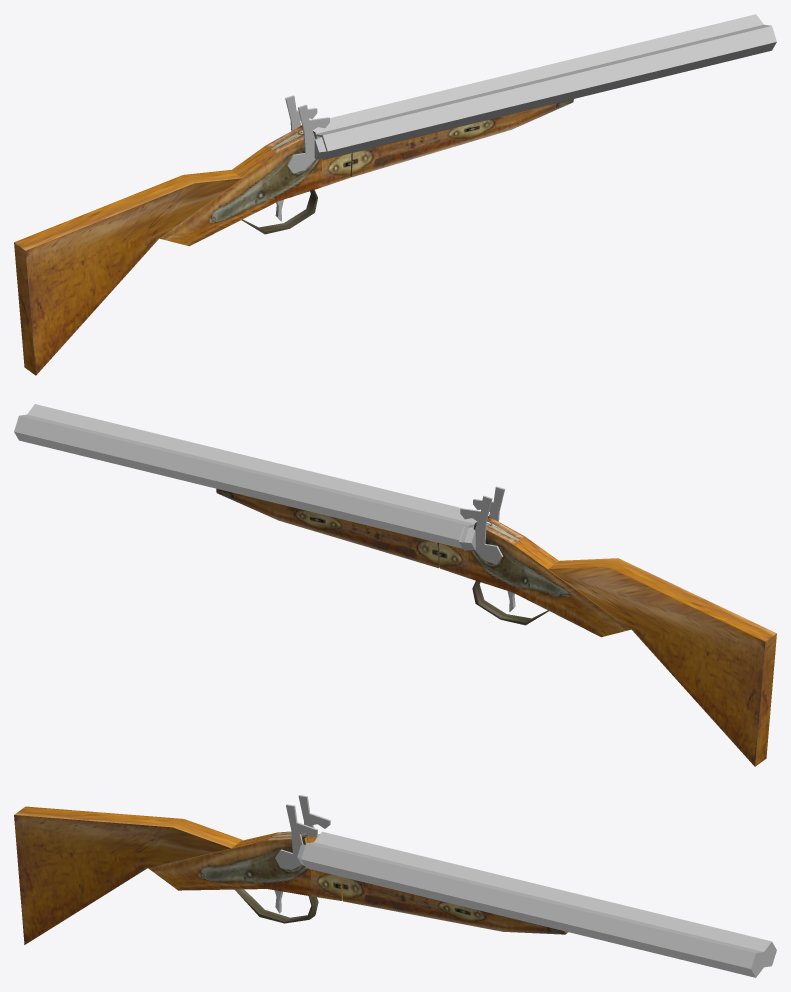
The model's file is escopeta.obj.
3 renders of one model, top to bottom at view 1: azimuth 30°, elevation 25°; view 2: azimuth 150°, elevation 25°; view 3: azimuth 330°, elevation 25°, orthographic.
Visible parts, largest first — view 1: stock_Material_#28, stock_Material_#29, stock_Material_#26; view 2: stock_Material_#28, stock_Material_#29, stock_Material_#26; view 3: stock_Material_#28, stock_Material_#29, stock_Material_#26.
Boxes of the visible parts, x1,y1,x2,y2 form: stock_Material_#28: [14, 99, 573, 375]; stock_Material_#29: [313, 14, 776, 159]; stock_Material_#26: [285, 95, 329, 173]; stock_Material_#28: [216, 488, 776, 766]; stock_Material_#29: [14, 404, 477, 550]; stock_Material_#26: [460, 486, 504, 564]; stock_Material_#28: [14, 806, 568, 944]; stock_Material_#29: [297, 831, 776, 977]; stock_Material_#26: [275, 795, 330, 869].
Size of the model in its own units: 0.9446 by 0.249 by 0.0582.
